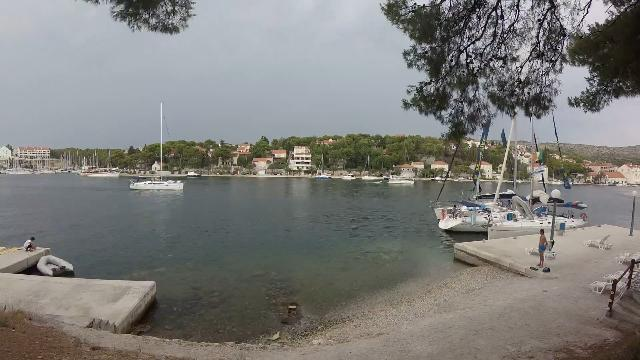Sailboat: (120, 173, 192, 193), (382, 168, 422, 188)
